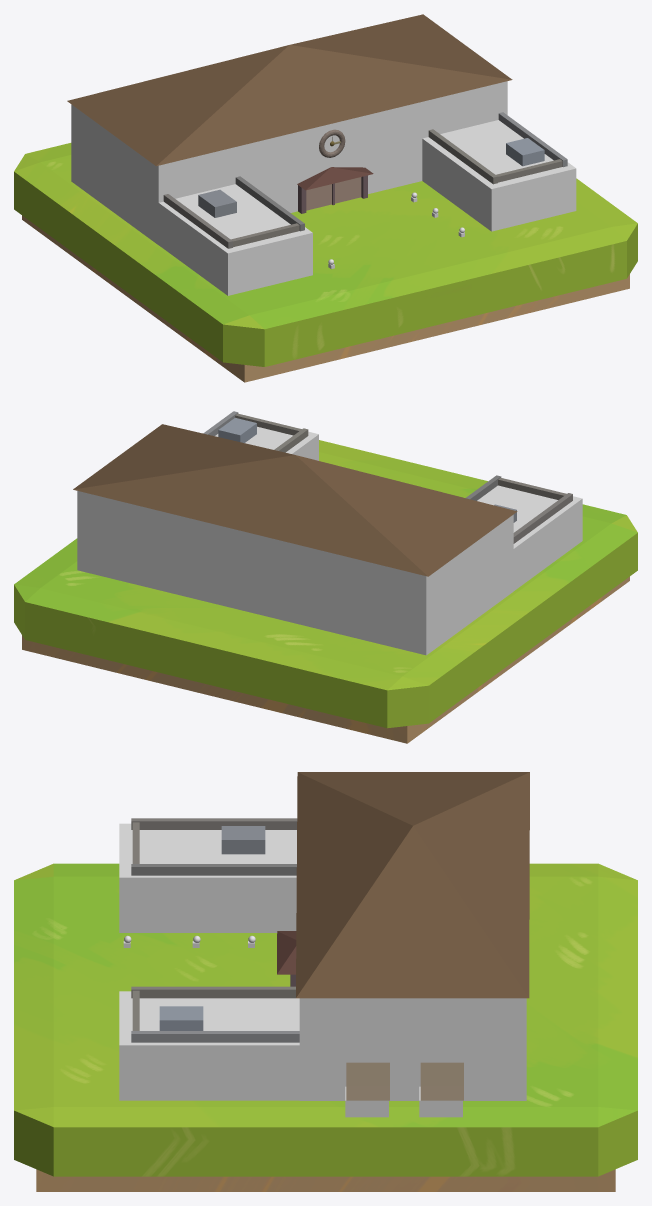
File: schooltile.fbx
3 views of the same model, one above another, from view 1: azimuth 30°, elevation 25°; view 2: azimuth 150°, elevation 25°; view 3: azimuth 270°, elevation 25° (orthographic). The views are drawn at different scales.
Visible parts, largest first — view 1: Cube.001, Cube.002, Cone, Cube, Cube.003, Cone.001, Cube.016, Cube.015, Cube.009, Cube.013, Cube.010, Cube.012 (+2 smaller); view 2: Cube.001, Cube.002, Cone, Cube, Cube.016, Cube.009, Cube.014, Cube.011; view 3: Cube.001, Cone, Cube.002, Cube, Cube.013, Cube.012, Cube.010, Cube.009, Cube.019, Cube.018, Cube.017, Cube.015 (+2 smaller).
Boxes of the visible parts, <box> form: Cube.001: <box>14,143,637,366</box>; Cube.002: <box>71,81,576,295</box>; Cone: <box>67,14,512,166</box>; Cube: <box>22,215,629,382</box>; Cube.003: <box>306,177,361,210</box>; Cone.001: <box>297,167,373,190</box>; Cube.016: <box>506,138,544,166</box>; Cube.015: <box>198,189,236,217</box>; Cube.009: <box>163,194,232,248</box>; Cube.013: <box>428,129,497,184</box>; Cube.010: <box>235,176,304,231</box>; Cube.012: <box>498,112,567,167</box>; Cube.001: <box>14,440,637,728</box>; Cube.002: <box>77,426,582,655</box>; Cone: <box>73,424,517,576</box>; Cube: <box>22,576,629,743</box>; Cube.016: <box>218,417,256,442</box>; Cube.009: <box>513,493,572,543</box>; Cube.014: <box>498,477,566,499</box>; Cube.011: <box>235,413,301,435</box>; Cube.001: <box>14,863,637,1176</box>; Cone: <box>296,772,529,998</box>; Cube.002: <box>119,823,526,1100</box>; Cube: <box>36,1169,615,1191</box>; Cube.013: <box>131,986,295,998</box>; Cube.012: <box>131,1031,299,1042</box>; Cube.010: <box>131,864,296,875</box>; Cube.009: <box>131,818,297,829</box>; Cube.019: <box>346,1062,389,1100</box>; Cube.018: <box>420,1062,463,1100</box>; Cube.017: <box>345,1086,462,1117</box>; Cube.015: <box>221,826,265,854</box>.
Size of the model in its own units: 108 by 46.04 by 108.
